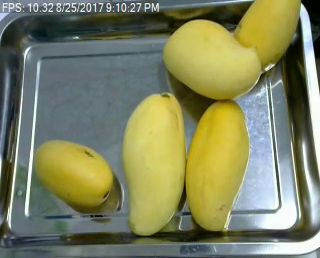Mango: (181, 99, 253, 235), (120, 94, 185, 234), (164, 18, 262, 100), (33, 140, 115, 206), (231, 0, 301, 75)
